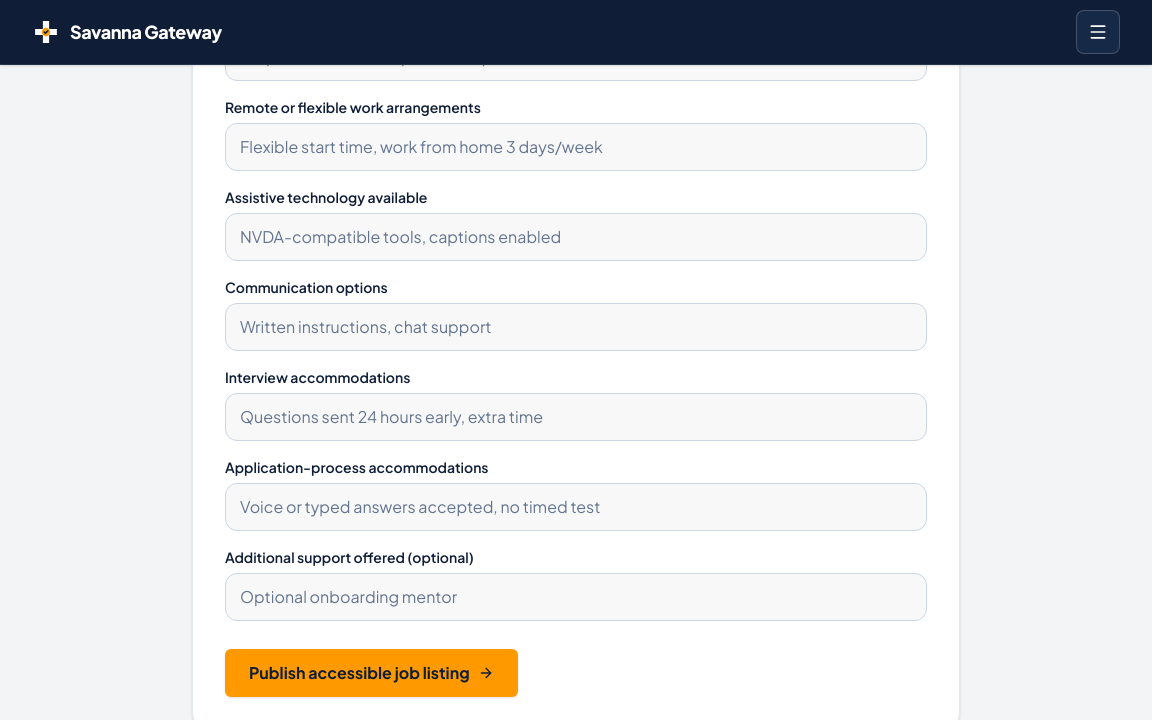
Test case: Onboarding & Career Gateway end-to-end UI journeys › blocks Employer publishing when medical proof or diagnosis is requested
Earlier steps of the test are not shown.
(page scrolled)
In the field labelled "Interview accommodations": (576, 417) [225,393,927,441], type "Bring medical proof and diagnosis."
(page scrolled)
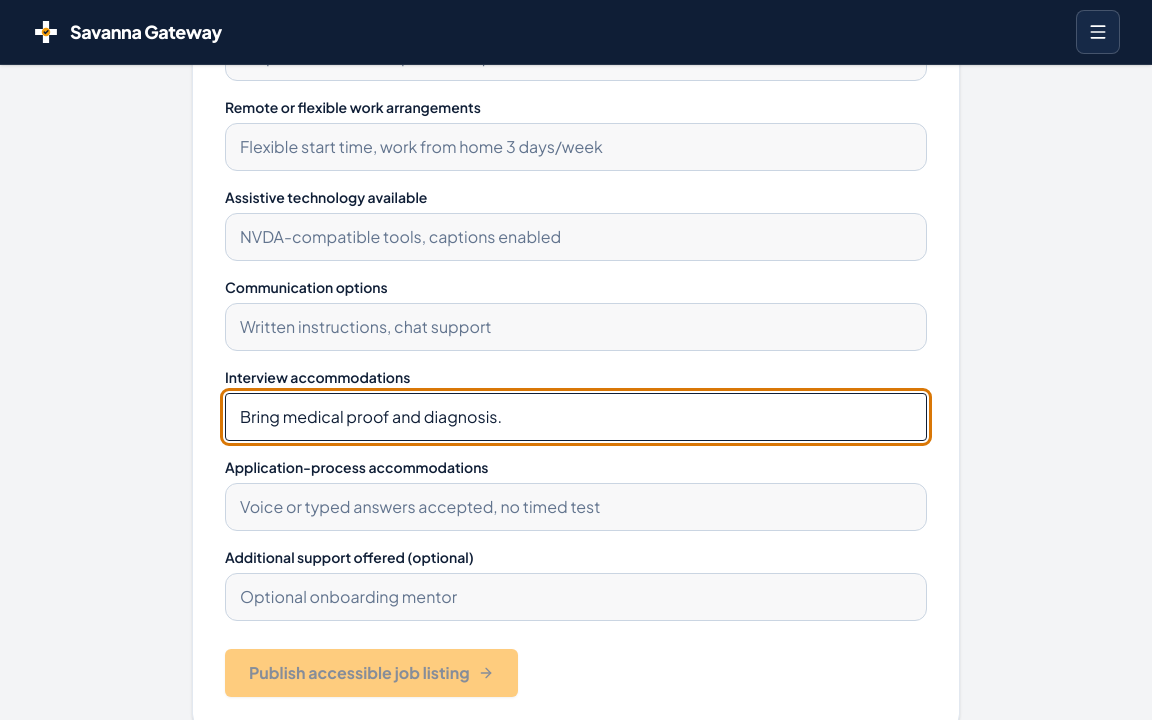
Now the button "Publish accessible job listing" is disabled, box [225,649,518,697]
